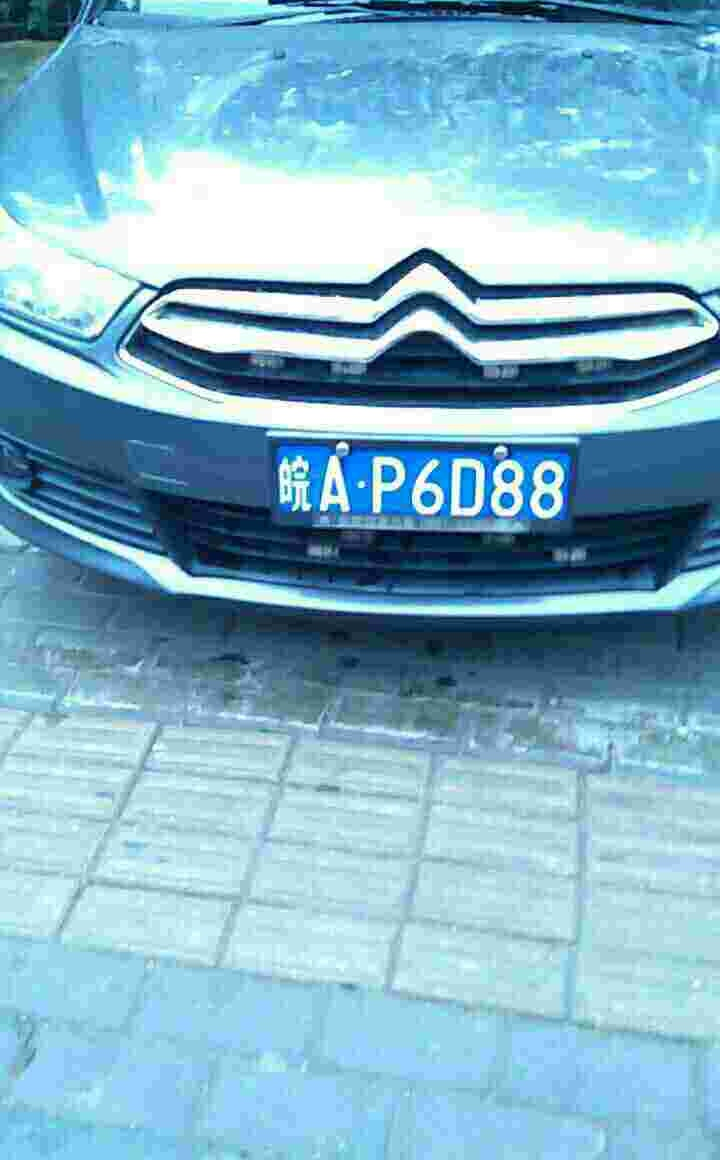license_plate: (272, 447, 587, 522)
